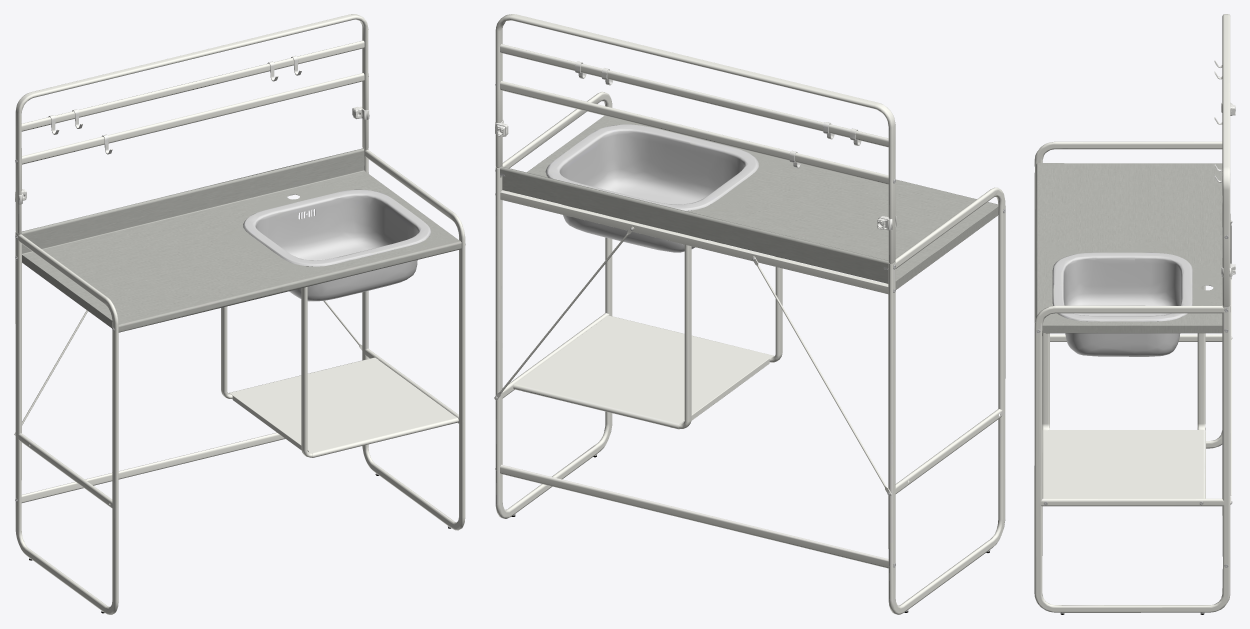
The model's file is kitchen_sunnersta_90302079.glb.
3 views of the same model, side by side, from view 1: azimuth 30°, elevation 25°; view 2: azimuth 150°, elevation 25°; view 3: azimuth 270°, elevation 25° (orthographic). The views are drawn at different scales.
Parts seen in each view (by area): view 1: 90302079-SUNNERSTA001; view 2: 90302079-SUNNERSTA001; view 3: 90302079-SUNNERSTA001.
Part boxes in pixels (x1,y1,x2,y2): 90302079-SUNNERSTA001: (14,14,465,614); 90302079-SUNNERSTA001: (494,14,1005,614); 90302079-SUNNERSTA001: (1034,14,1235,614).
Size of the model in its own units: 1.12 by 1.39 by 0.5737.
1 material, 1 textured.
